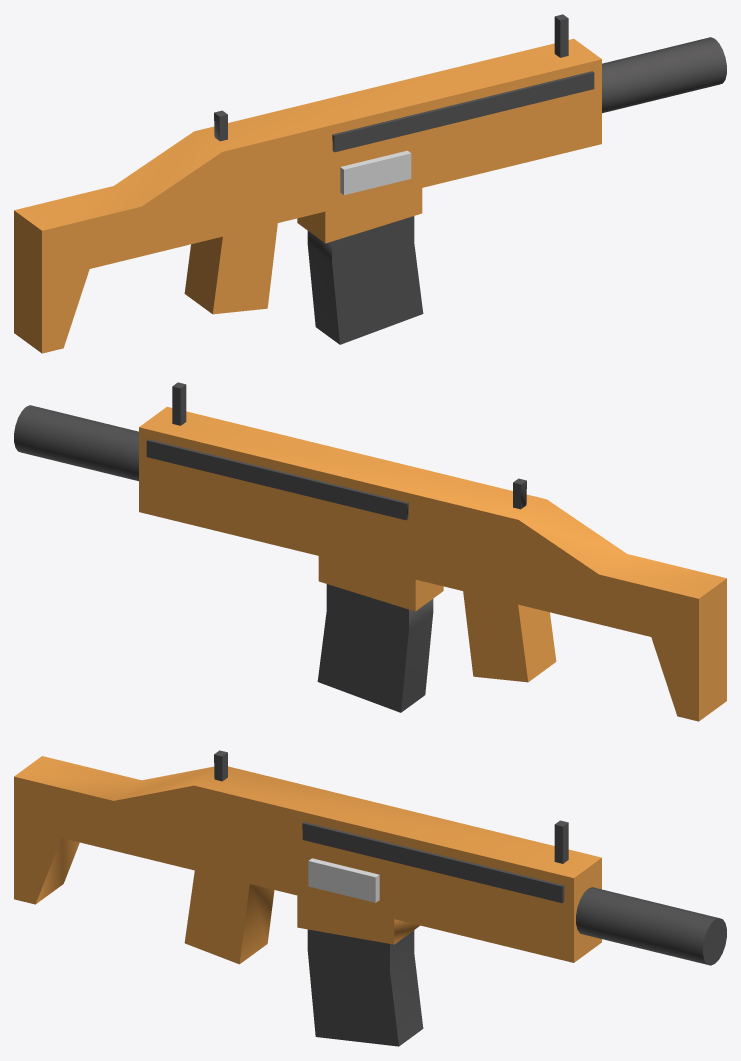
File: gun 4.fbx
The picture shows the model from 3 angles, top to bottom: view 1: azimuth 30°, elevation 25°; view 2: azimuth 150°, elevation 25°; view 3: azimuth 330°, elevation 25°; orthographic projection.
Visible parts, largest first — view 1: Line001, Line006, Cylinder001, Line003, Line002, Line005; view 2: Line001, Line006, Cylinder001, Line003, Line005; view 3: Line001, Line006, Cylinder001, Line003, Line002, Line005.
Part boxes in pixels (x1,y1,x2,y2): Line001: (14,38,601,353); Line006: (307,216,423,344); Cylinder001: (602,37,726,113); Line003: (332,71,594,152); Line002: (340,150,411,194); Line005: (554,14,568,57); Line001: (139,406,726,721); Line006: (317,584,433,712); Cylinder001: (14,405,138,481); Line003: (146,439,408,520); Line005: (172,382,186,425); Line001: (14,756,601,964); Line006: (307,929,423,1046); Cylinder001: (576,887,726,965); Line003: (302,822,564,903); Line002: (308,858,379,902); Line005: (554,820,568,863).
Size of the model in its own units: 212 by 76.95 by 18.
